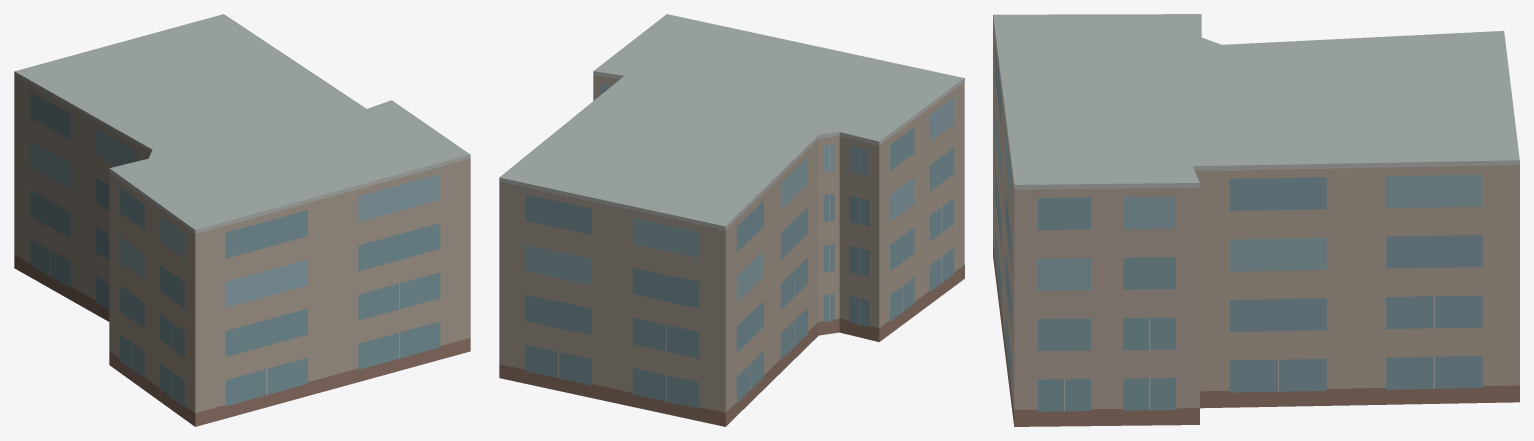
Rendered from survey-upis-32981085.glb.
The picture shows the model from 3 angles, left to right: view 1: azimuth 30°, elevation 25°; view 2: azimuth 150°, elevation 25°; view 3: azimuth 270°, elevation 25°; orthographic projection. The views are drawn at different scales.
Visible parts, largest first — view 1: survey-upis-32981085.tmp; view 2: survey-upis-32981085.tmp; view 3: survey-upis-32981085.tmp.
Part boxes in pixels (x1=…): survey-upis-32981085.tmp: x1=14, y1=14, x2=470, y2=426; survey-upis-32981085.tmp: x1=499, y1=14, x2=964, y2=426; survey-upis-32981085.tmp: x1=993, y1=14, x2=1519, y2=426.
Size of the model in its own units: 18.64 by 12.3 by 24.28.
